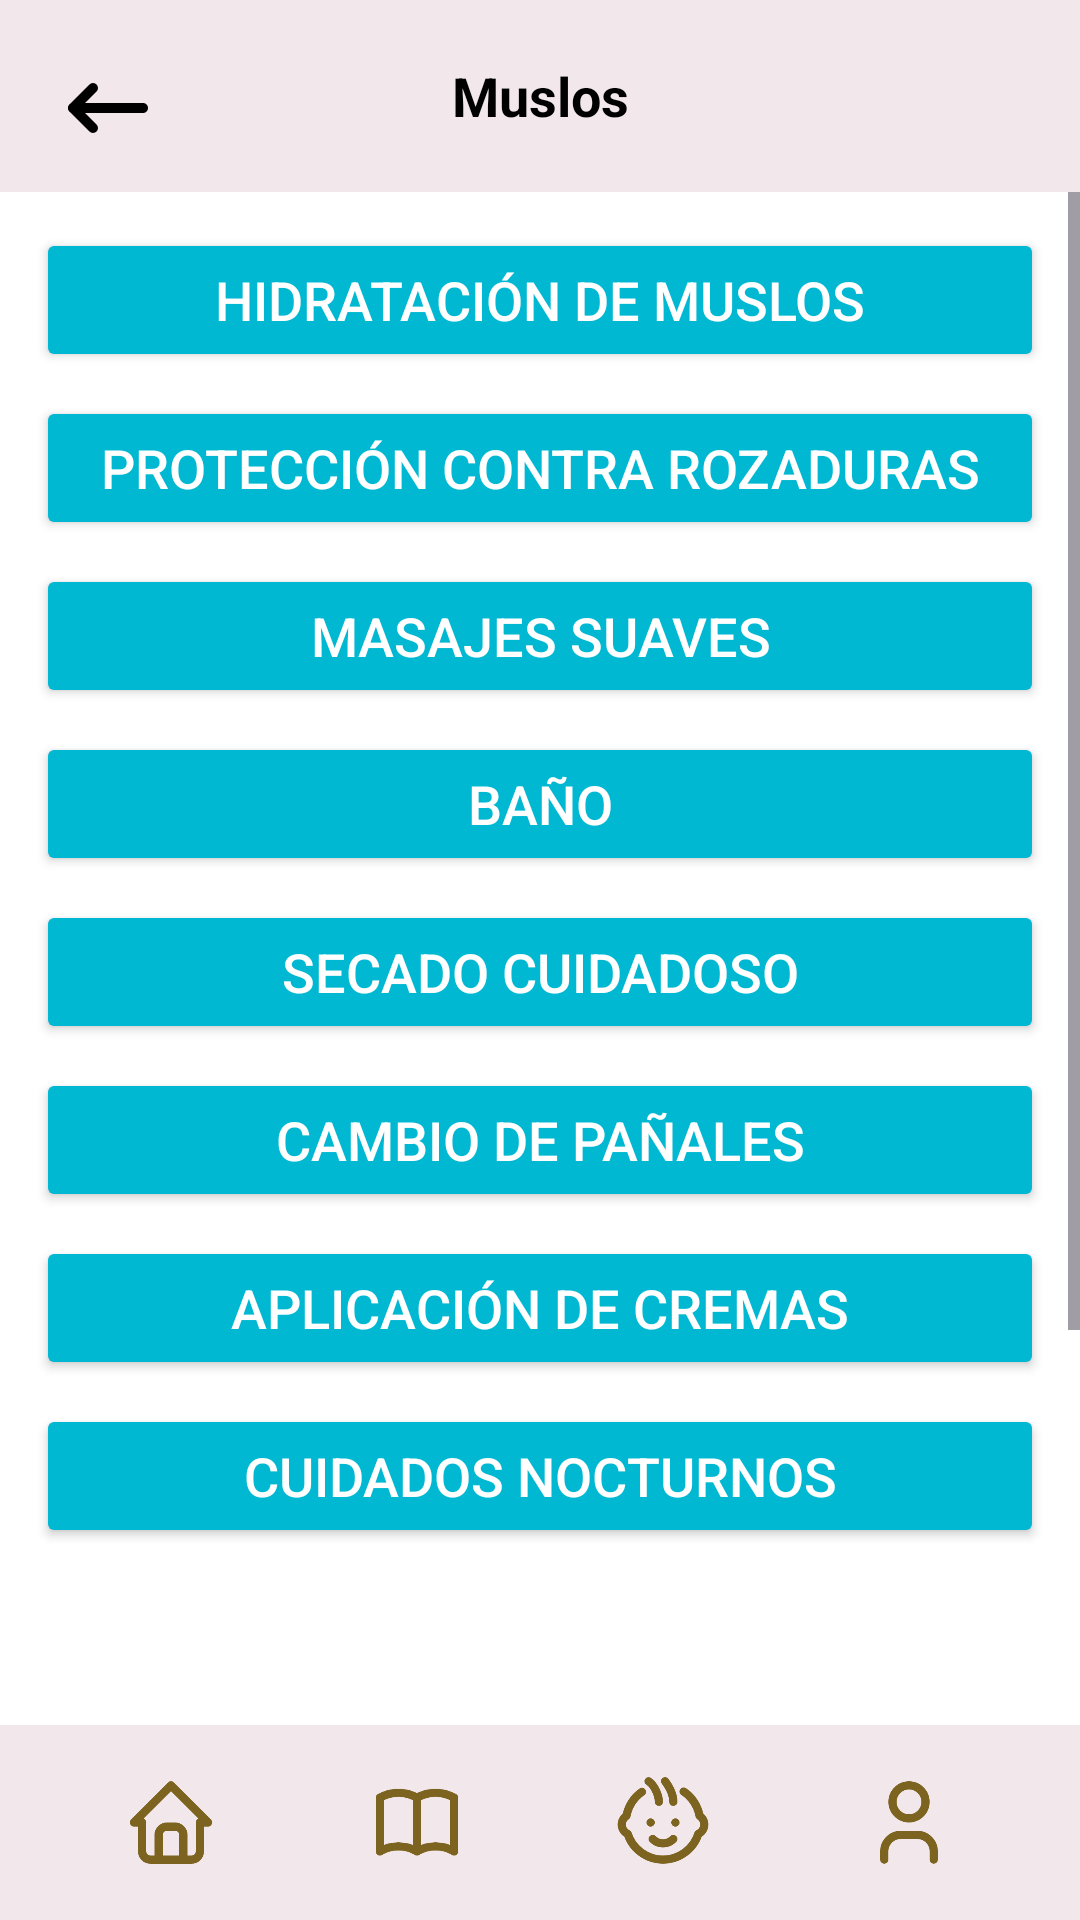

Icons on this 1080w x 1920h Android screen, each with its box as (x1, y1, x2, y2):
book: (376, 1789, 458, 1856)
home: (130, 1781, 212, 1864)
moodboy: (617, 1777, 709, 1864)
personaa: (880, 1781, 938, 1864)
